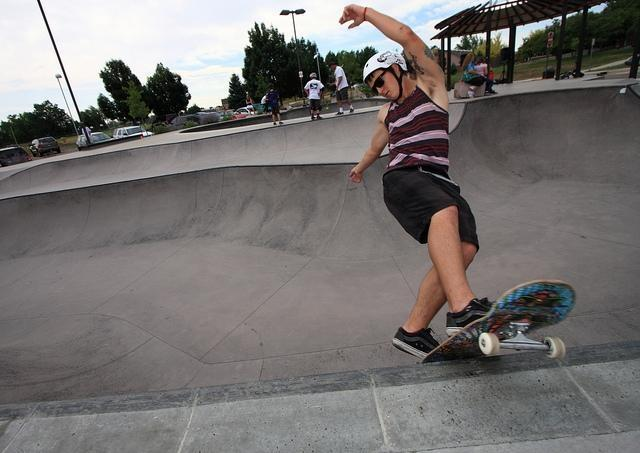car: (170, 114, 220, 130), (0, 146, 33, 167), (76, 132, 115, 149), (30, 136, 60, 156), (112, 126, 154, 139), (152, 114, 177, 129), (215, 110, 248, 120), (252, 103, 272, 112), (233, 108, 249, 114), (625, 55, 633, 65), (250, 107, 257, 114)
